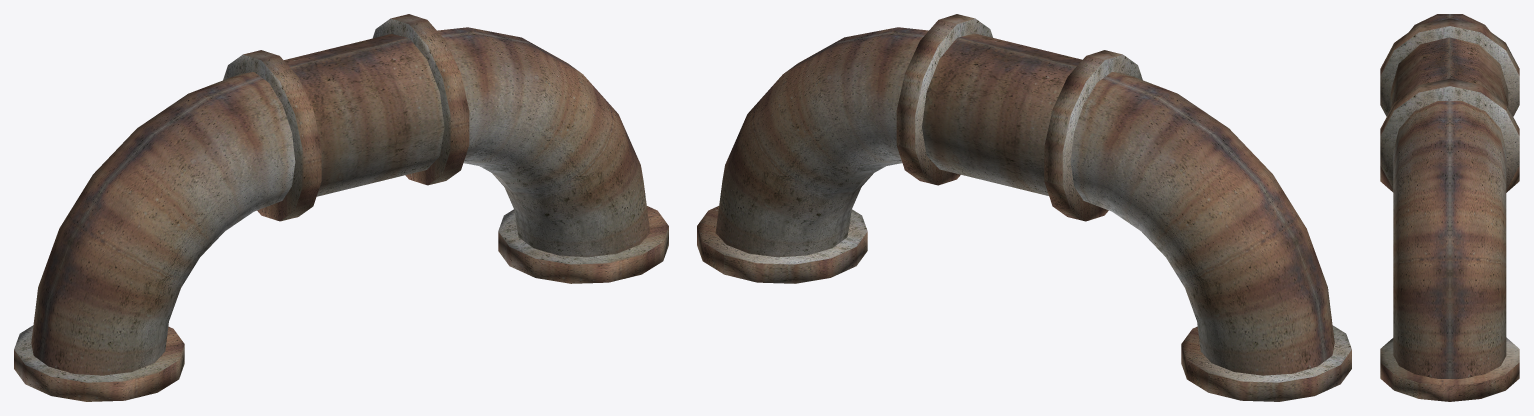
The model's file is pipe_5_lod1.obj.
The picture shows the model from 3 angles, left to right: view 1: azimuth 30°, elevation 25°; view 2: azimuth 150°, elevation 25°; view 3: azimuth 270°, elevation 25°; orthographic projection. The views are drawn at different scales.
Visible parts, largest first — view 1: pipe_5_lod1.obj; view 2: pipe_5_lod1.obj; view 3: pipe_5_lod1.obj.
Boxes of the visible parts, box(x1,y1,x2,y2) form: pipe_5_lod1.obj: box(14, 14, 668, 401); pipe_5_lod1.obj: box(697, 14, 1351, 401); pipe_5_lod1.obj: box(1380, 14, 1519, 401).
Bounding box in the file's own units: 5.32 × 2.14 × 1.22.
1 material, 1 textured.
